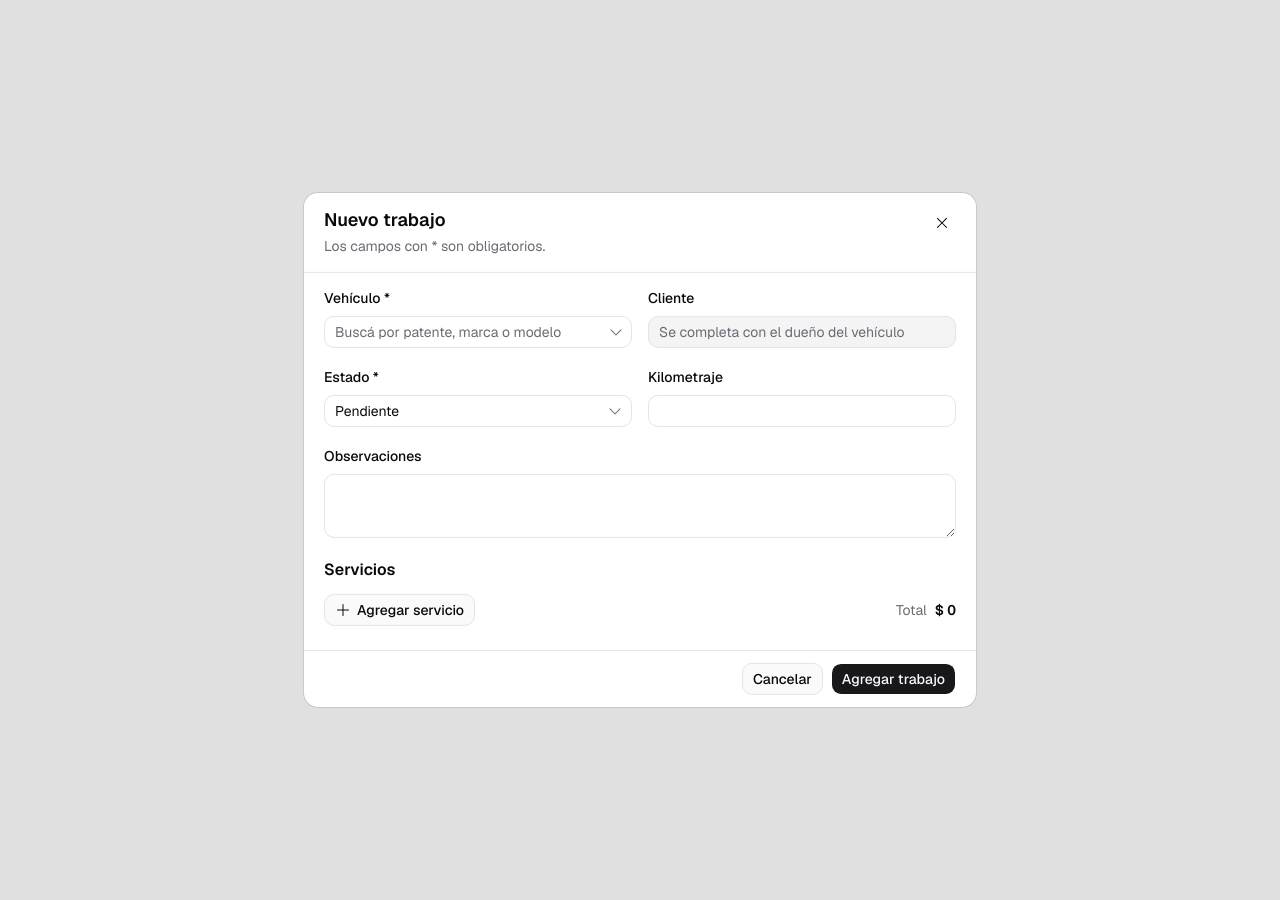
Test case: new job form › vehicle › asks for it, with the focus on the field
Step 1. Click the button "Agregar trabajo" → (893, 679), box [831, 663, 956, 695]
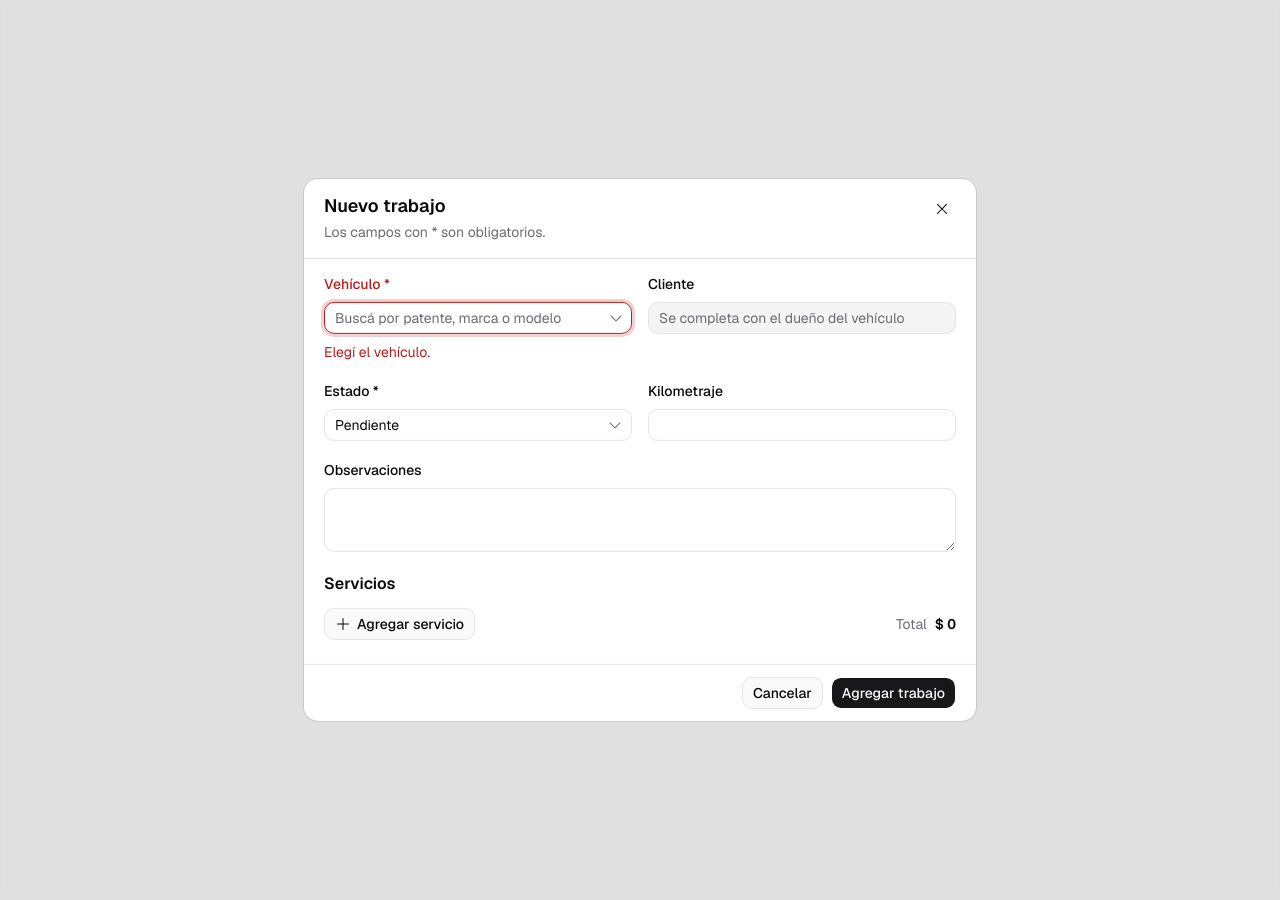
Check: the text "Elegí el vehículo." is shown, box [324, 343, 430, 361]
